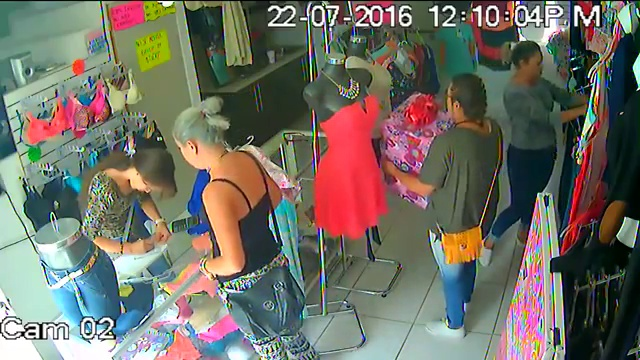face: (522, 45, 545, 79)
